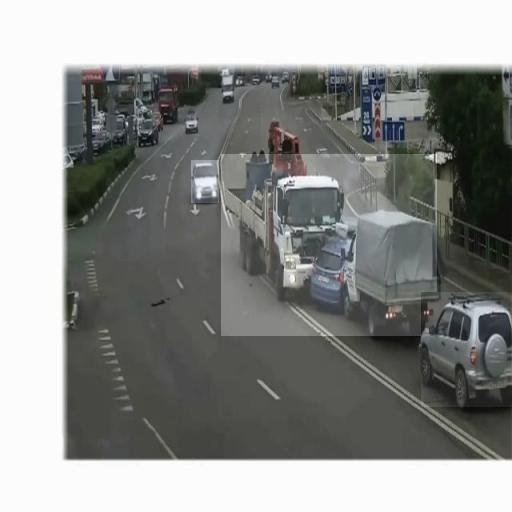小汽车: (421, 292, 512, 407), (191, 160, 219, 203)
小汽车撞小汽车: (221, 154, 437, 336)
